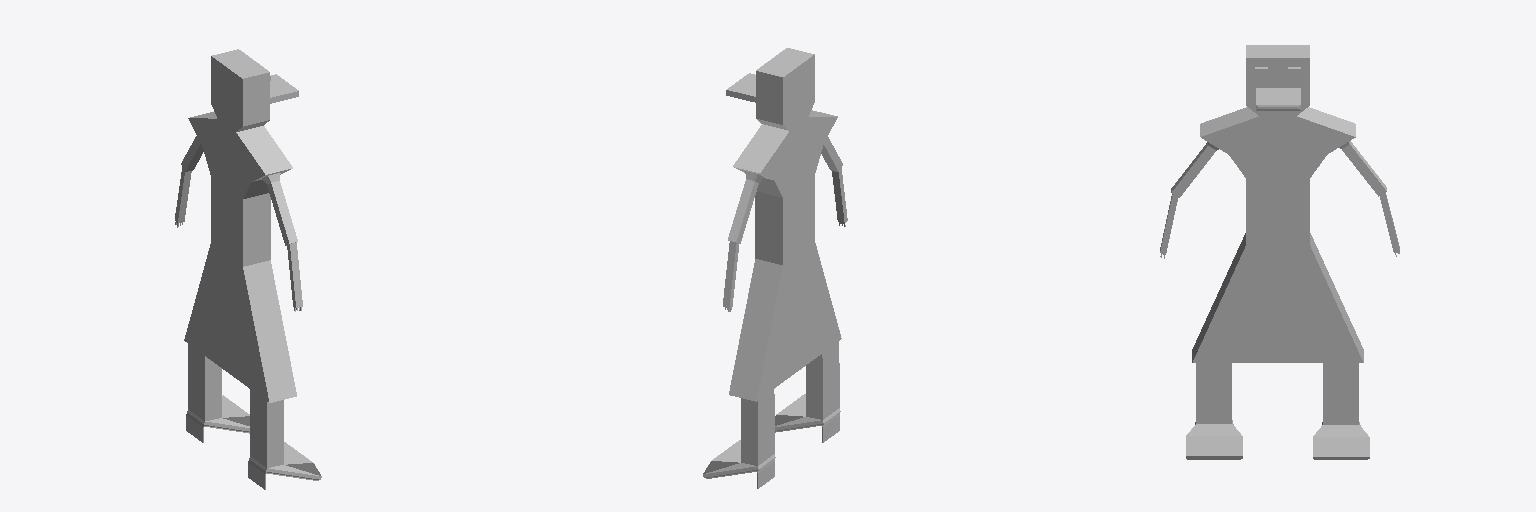
Rendered from xyz.obj.
3 renders of one model, left to right at view 1: azimuth 30°, elevation 25°; view 2: azimuth 150°, elevation 25°; view 3: azimuth 270°, elevation 25°, orthographic.
Parts seen in each view (by area): view 1: Torso_Cube.002, LeftLeg_Cube.007, RightLeg_Cube.005, RightArm_1_Cube.003, LeftArm_2_Cube.010, RightArm_2_Cube.006; view 2: Torso_Cube.002, RightLeg_Cube.005, LeftLeg_Cube.007, LeftArm_1_Cube.008, RightArm_2_Cube.006, LeftArm_2_Cube.010; view 3: Torso_Cube.002, LeftLeg_Cube.007, RightLeg_Cube.005, RightArm_1_Cube.003, LeftArm_1_Cube.008.
Part boxes in pixels (x1,y1,x2,y2): Torso_Cube.002: (184, 49, 298, 402); LeftLeg_Cube.007: (248, 389, 321, 489); RightLeg_Cube.005: (186, 344, 249, 442); RightArm_1_Cube.003: (262, 173, 297, 245); LeftArm_2_Cube.010: (287, 242, 302, 311); RightArm_2_Cube.006: (175, 167, 191, 227); Torso_Cube.002: (726, 48, 841, 401); RightLeg_Cube.005: (703, 389, 775, 488); LeftLeg_Cube.007: (775, 342, 840, 442); LeftArm_1_Cube.008: (728, 171, 763, 243); RightArm_2_Cube.006: (723, 241, 738, 311); LeftArm_2_Cube.010: (832, 168, 847, 226); Torso_Cube.002: (1192, 45, 1363, 362); LeftLeg_Cube.007: (1186, 363, 1242, 459); RightLeg_Cube.005: (1313, 363, 1369, 459); RightArm_1_Cube.003: (1171, 142, 1218, 197); LeftArm_1_Cube.008: (1339, 141, 1386, 196).
Size of the model in its own units: 2.56 by 15.27 by 8.45.